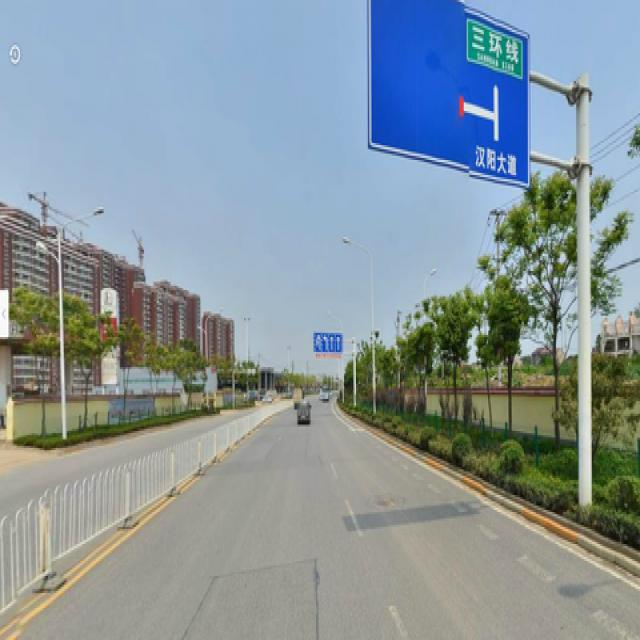koel: (524, 220, 575, 373), (23, 294, 56, 444), (71, 303, 100, 437), (437, 294, 468, 372), (121, 331, 139, 412), (412, 330, 435, 392), (150, 339, 170, 403), (182, 352, 198, 393)
